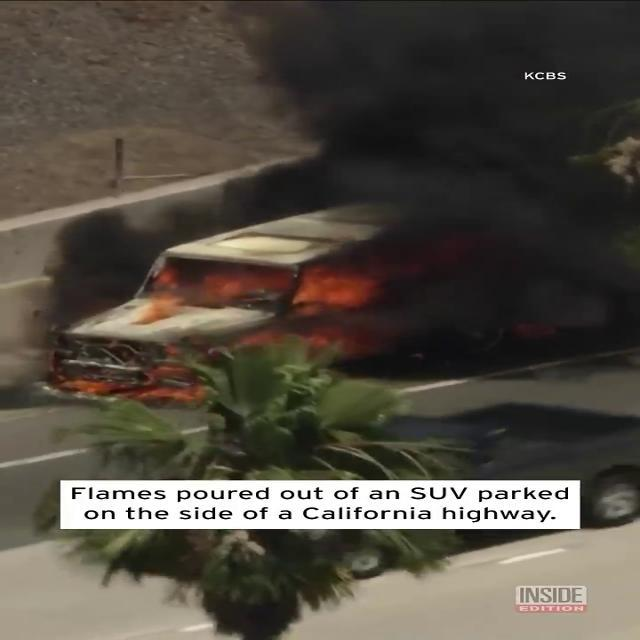Smoke: (252, 0, 638, 370)
